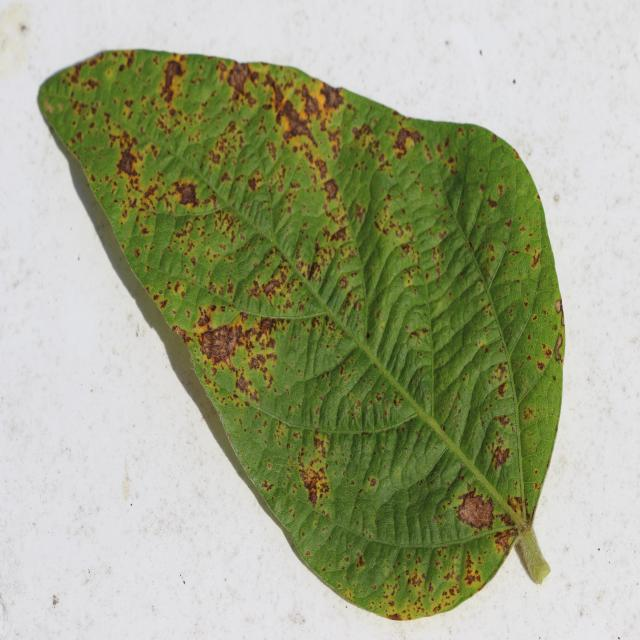Bacterial_Blight: (66, 56, 135, 124), (198, 323, 243, 367), (276, 95, 317, 142), (297, 463, 329, 507), (392, 118, 420, 163), (160, 59, 184, 100), (227, 61, 252, 95), (461, 551, 482, 586), (116, 147, 138, 176), (175, 182, 199, 206), (353, 122, 376, 146), (493, 529, 516, 552), (491, 444, 511, 470), (506, 494, 526, 519), (172, 325, 192, 345), (407, 568, 425, 590), (322, 178, 339, 200), (257, 317, 276, 336), (142, 183, 159, 204), (329, 225, 348, 243), (262, 278, 280, 297), (553, 333, 564, 362), (247, 174, 262, 192), (496, 380, 509, 398), (312, 434, 325, 451), (43, 97, 56, 114), (496, 414, 511, 428), (197, 311, 210, 327), (522, 406, 535, 422), (530, 251, 541, 269), (355, 554, 366, 570), (554, 298, 564, 315), (261, 480, 274, 492), (400, 242, 411, 256), (487, 196, 498, 209), (388, 612, 402, 621), (536, 360, 545, 372), (368, 476, 377, 487), (159, 298, 168, 309), (466, 481, 474, 492), (133, 248, 141, 258), (533, 481, 541, 491), (505, 218, 512, 229), (52, 595, 59, 605), (20, 24, 28, 32), (227, 433, 232, 443), (532, 314, 538, 322), (371, 583, 377, 591), (523, 301, 529, 308), (526, 355, 532, 362), (305, 550, 311, 556), (534, 469, 539, 475), (479, 49, 483, 55), (512, 79, 516, 84), (183, 580, 186, 585)
Soybean: (39, 51, 565, 619), (40, 51, 565, 619)
